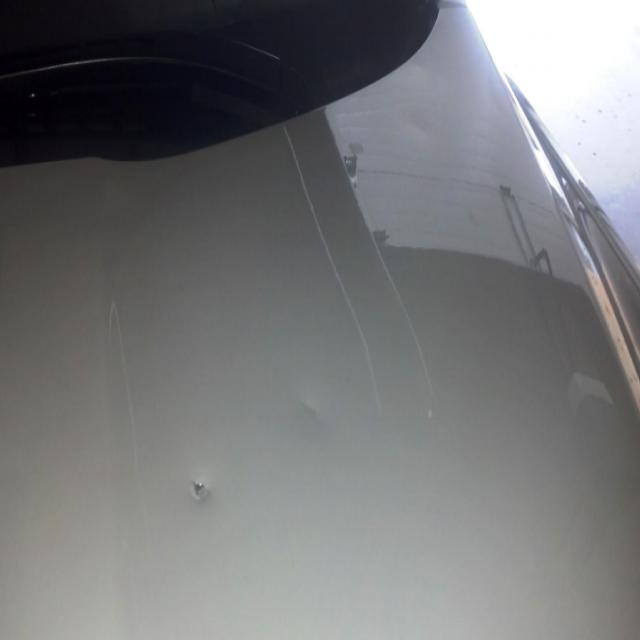dents: (286, 374, 339, 441), (182, 460, 225, 528)
